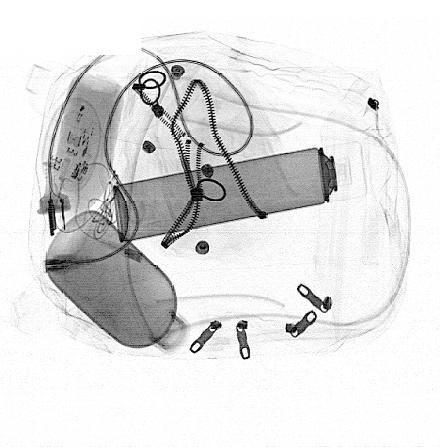Sprayer: (114, 141, 368, 244)
